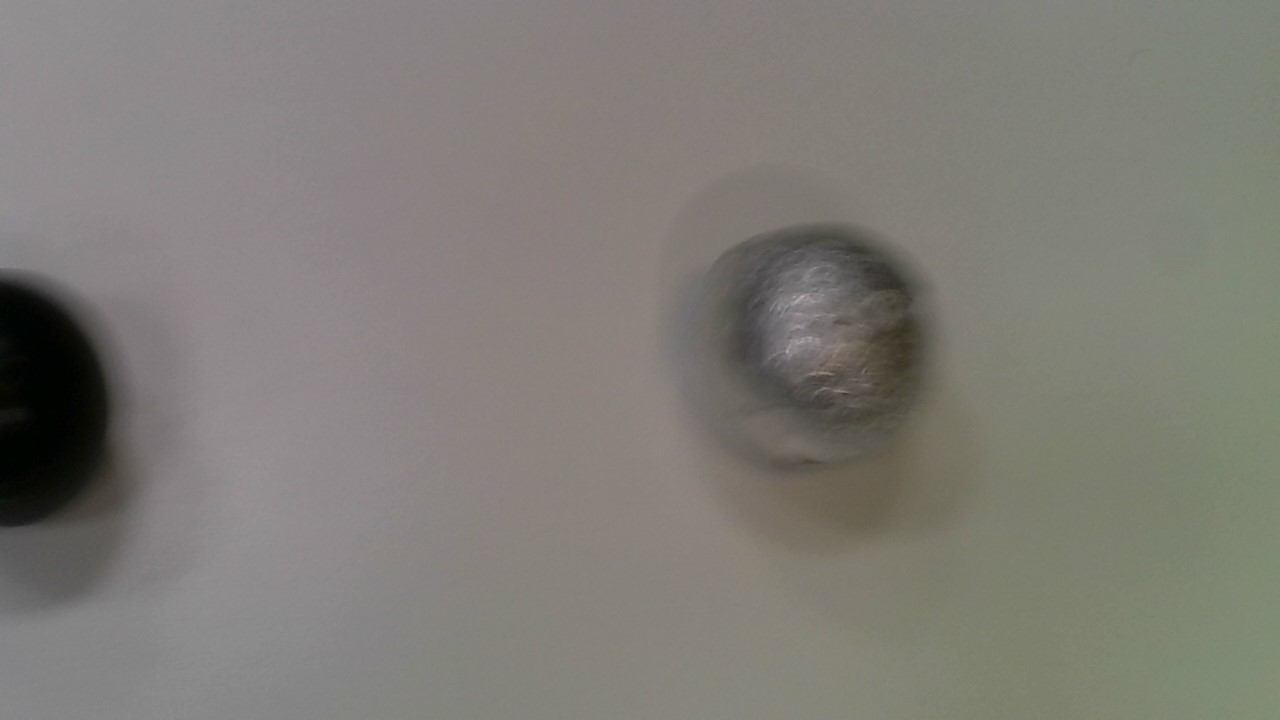silver_ball: (682, 213, 949, 485)
